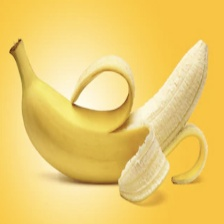banana: (29, 47, 224, 215)
